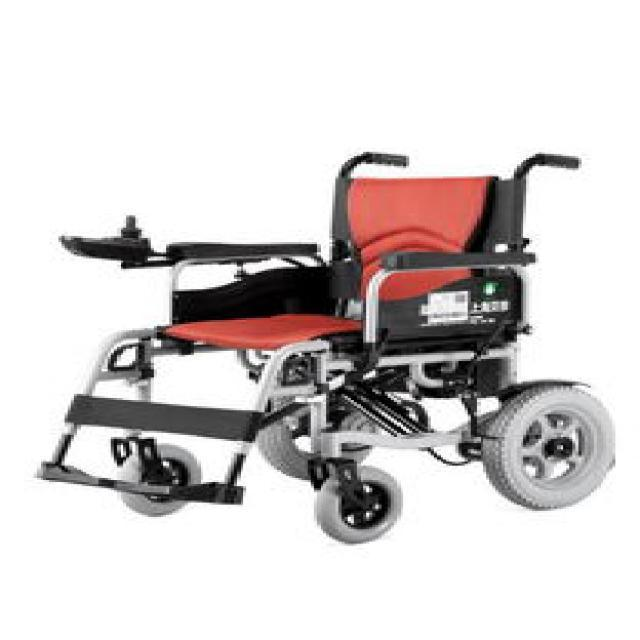wheelchairs: (40, 153, 614, 540)
